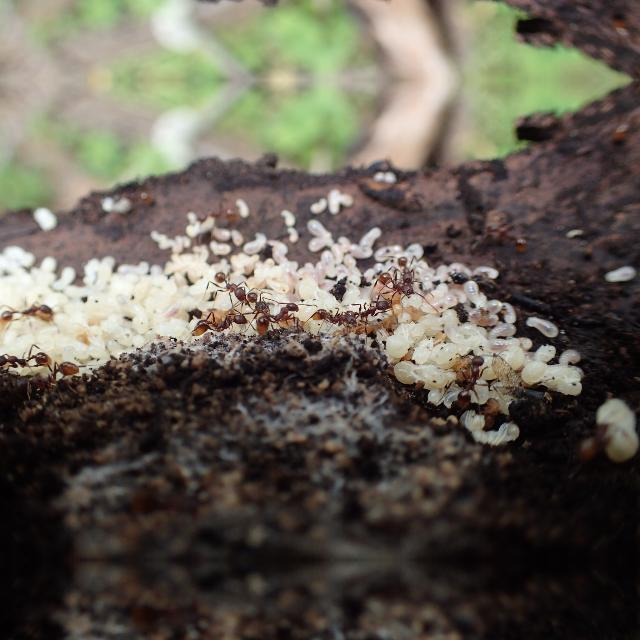Apheanogaster: (442, 346, 500, 410), (318, 292, 398, 331), (177, 195, 255, 233), (475, 208, 535, 256), (25, 358, 87, 404), (250, 295, 308, 335), (206, 266, 264, 306), (368, 264, 424, 304), (0, 296, 60, 330), (186, 310, 248, 342), (106, 180, 160, 212), (0, 343, 52, 372), (393, 249, 421, 281)
